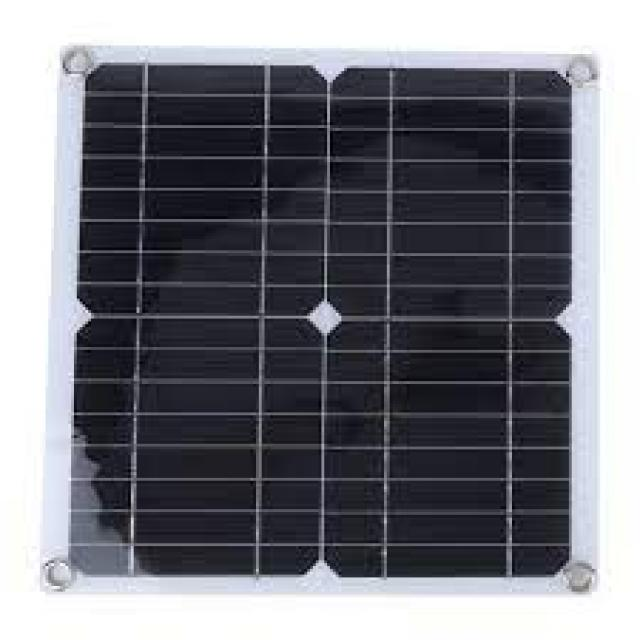faulty: (63, 50, 572, 598)
